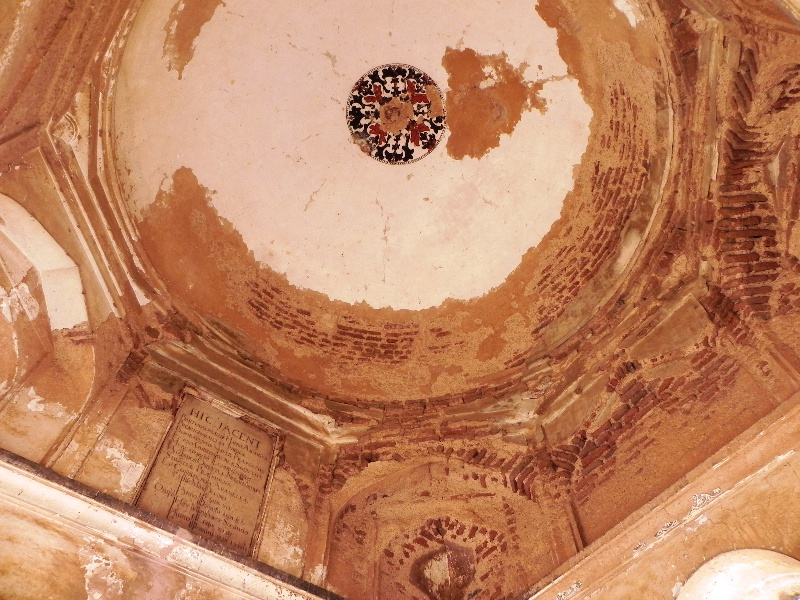Exposed Bricks: (332, 318, 721, 498), (600, 30, 791, 315)
